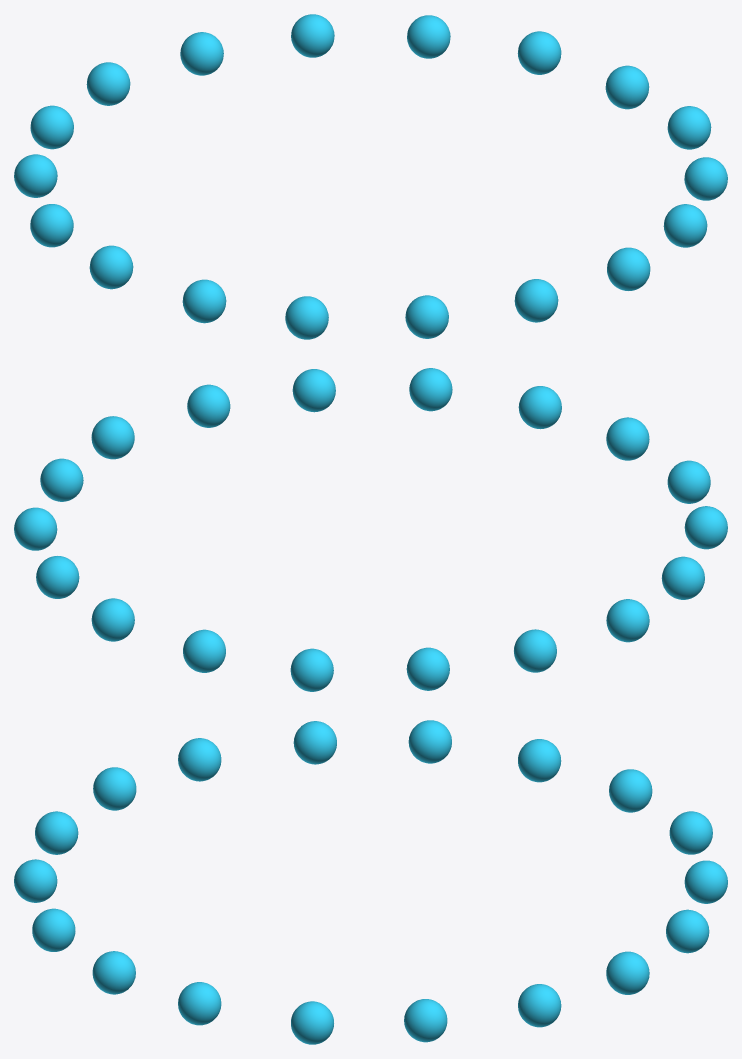
3 renders of one model, top to bottom at view 1: azimuth 30°, elevation 25°; view 2: azimuth 150°, elevation 25°; view 3: azimuth 270°, elevation 25°, orthographic.
Visible parts, largest first — view 1: Sphere048; view 2: Sphere048; view 3: Sphere048.
Boxes of the visible parts, x1=… form: Sphere048: x1=14, y1=14, x2=727, y2=339; Sphere048: x1=14, y1=368, x2=727, y2=691; Sphere048: x1=14, y1=720, x2=727, y2=1044.
Size of the model in its own units: 134 by 8.22 by 135.
